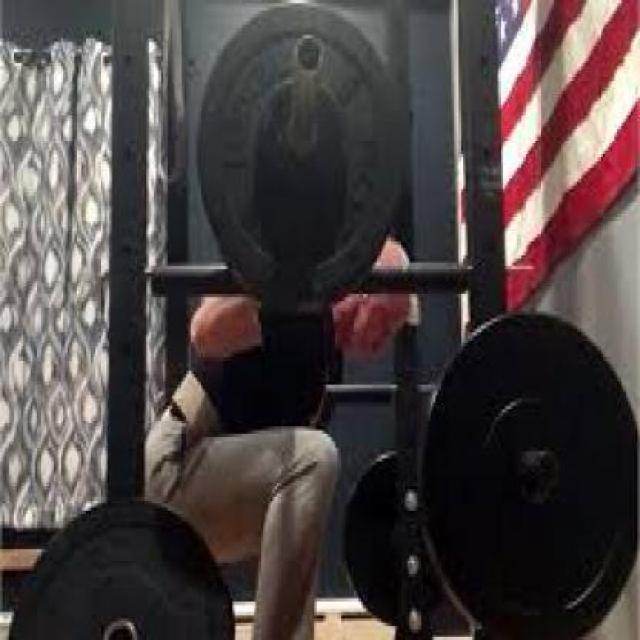barbell: (197, 1, 417, 316)
